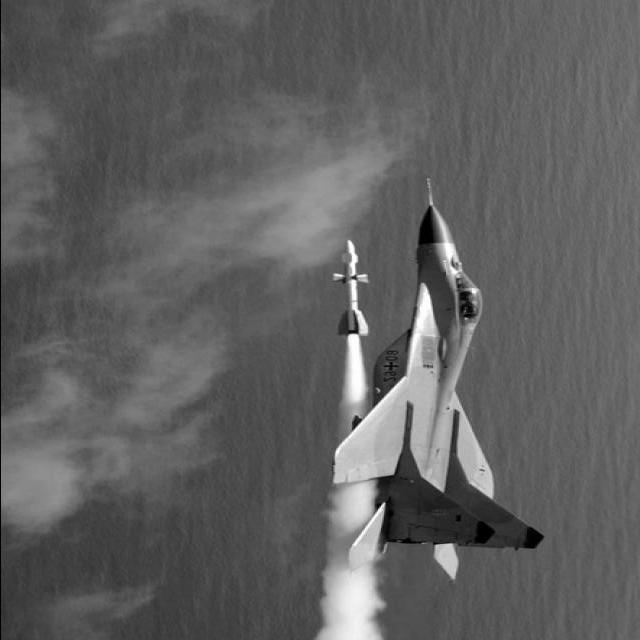missile: (322, 234, 375, 341)
